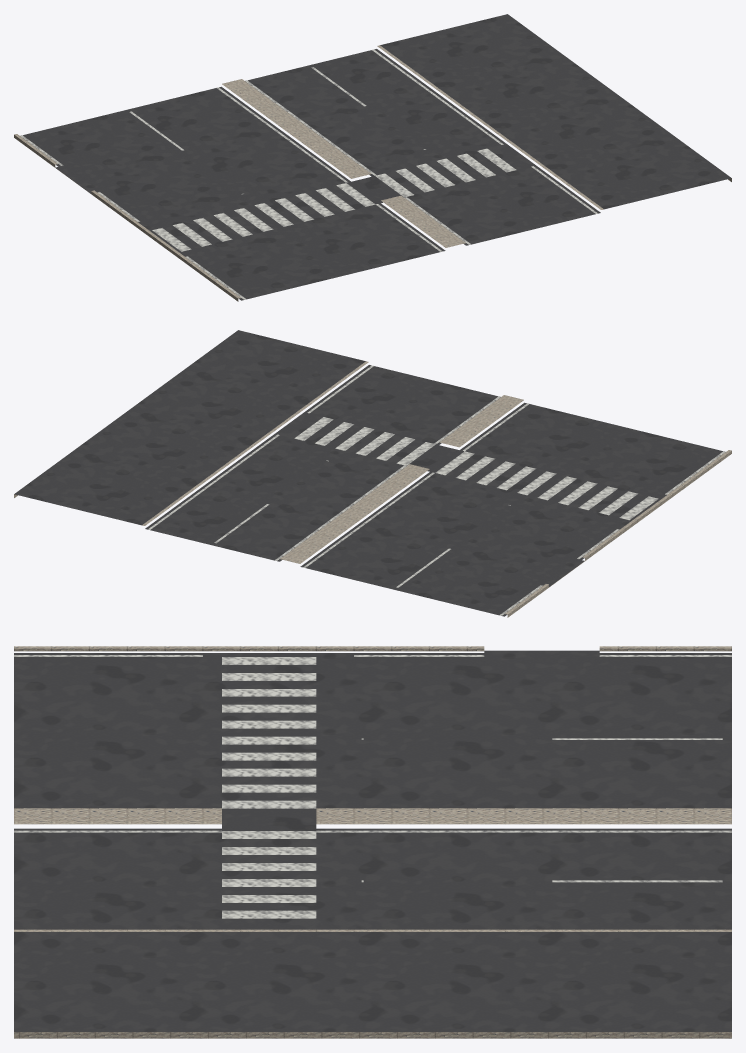
Rendered from SM_Viale_Italia_Incrocio_v2_LOD2.fbx.
The picture shows the model from 3 angles, top to bottom: view 1: azimuth 30°, elevation 25°; view 2: azimuth 150°, elevation 25°; view 3: azimuth 270°, elevation 25°; orthographic projection. The views are drawn at different scales.
Visible parts, largest first — view 1: SM_Viale_Italia_Incrocio_v2_LOD2; view 2: SM_Viale_Italia_Incrocio_v2_LOD2; view 3: SM_Viale_Italia_Incrocio_v2_LOD2.
Boxes of the visible parts, x1,y1,x2,y2 form: SM_Viale_Italia_Incrocio_v2_LOD2: (14,14,731,301); SM_Viale_Italia_Incrocio_v2_LOD2: (14,330,731,617); SM_Viale_Italia_Incrocio_v2_LOD2: (14,646,731,1038).
Size of the model in its own units: 2415 by 1900 by 20.
3 materials, 3 textured.
